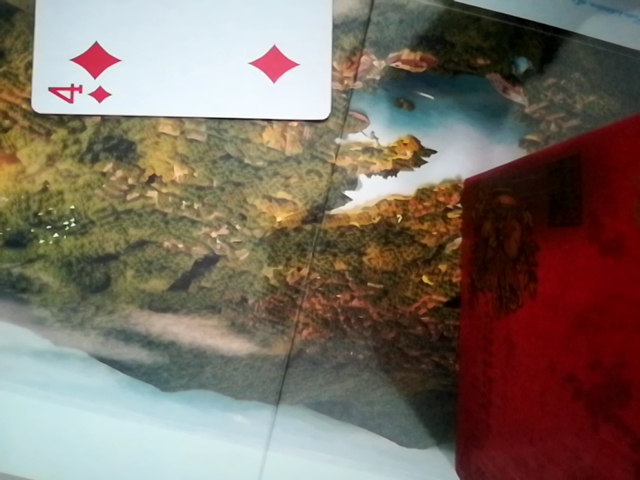fk 4: (27, 1, 348, 121)
